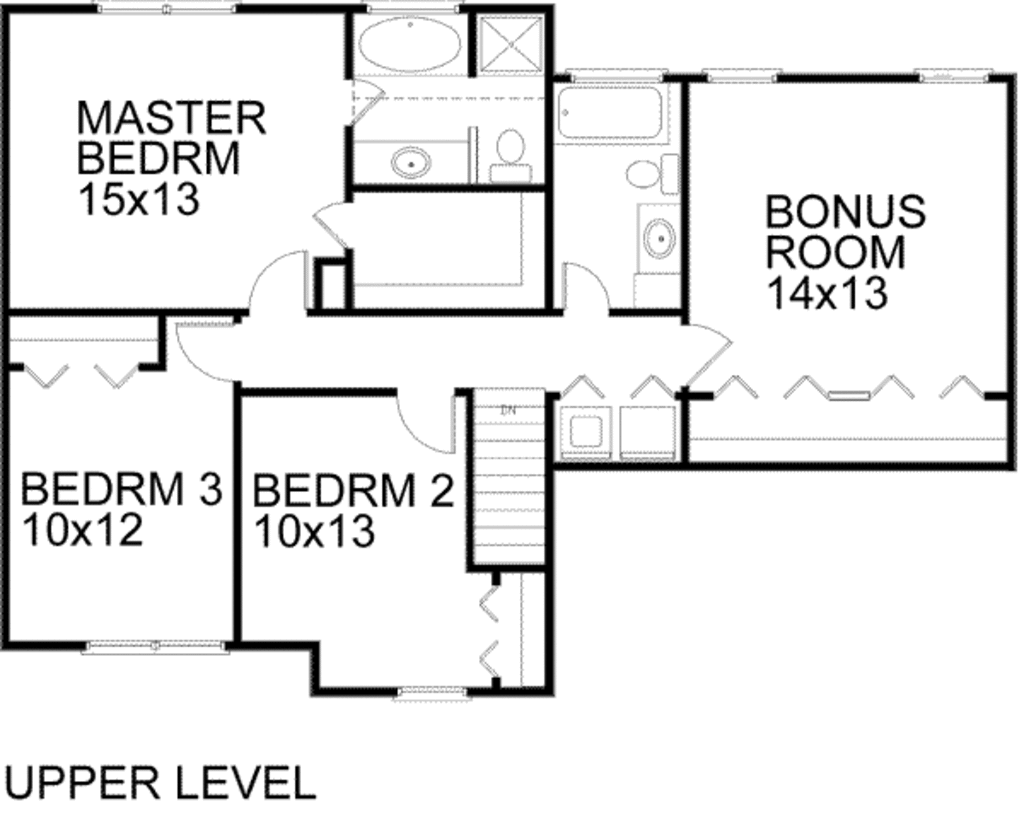door: (170, 319, 240, 389), (243, 250, 311, 317), (387, 390, 458, 451), (555, 256, 608, 317), (310, 195, 353, 251)
large_sink: (485, 127, 537, 193), (623, 148, 680, 202)
small_sink: (348, 137, 469, 186), (632, 204, 682, 276)
stairs: (463, 382, 550, 577)
tub: (550, 82, 687, 152), (348, 14, 470, 79)
windows: (78, 635, 234, 662), (695, 59, 775, 85), (394, 681, 471, 706), (912, 70, 992, 86)
